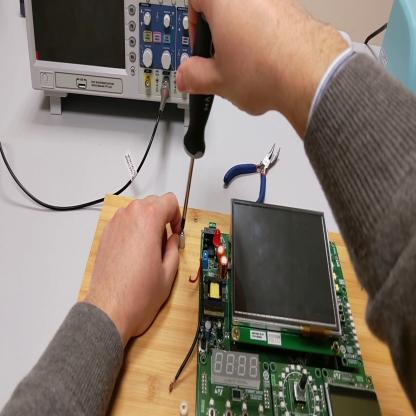hand: (175, 2, 308, 117), (91, 190, 183, 334)
low voltage board: (168, 196, 388, 414)
oscilloscope: (25, 3, 195, 118)
pliers: (225, 143, 283, 202)
screwdriver-: (183, 14, 217, 227)
socket: (20, 3, 26, 15)
welder station: (377, 5, 415, 90)
working area: (80, 192, 412, 415)
